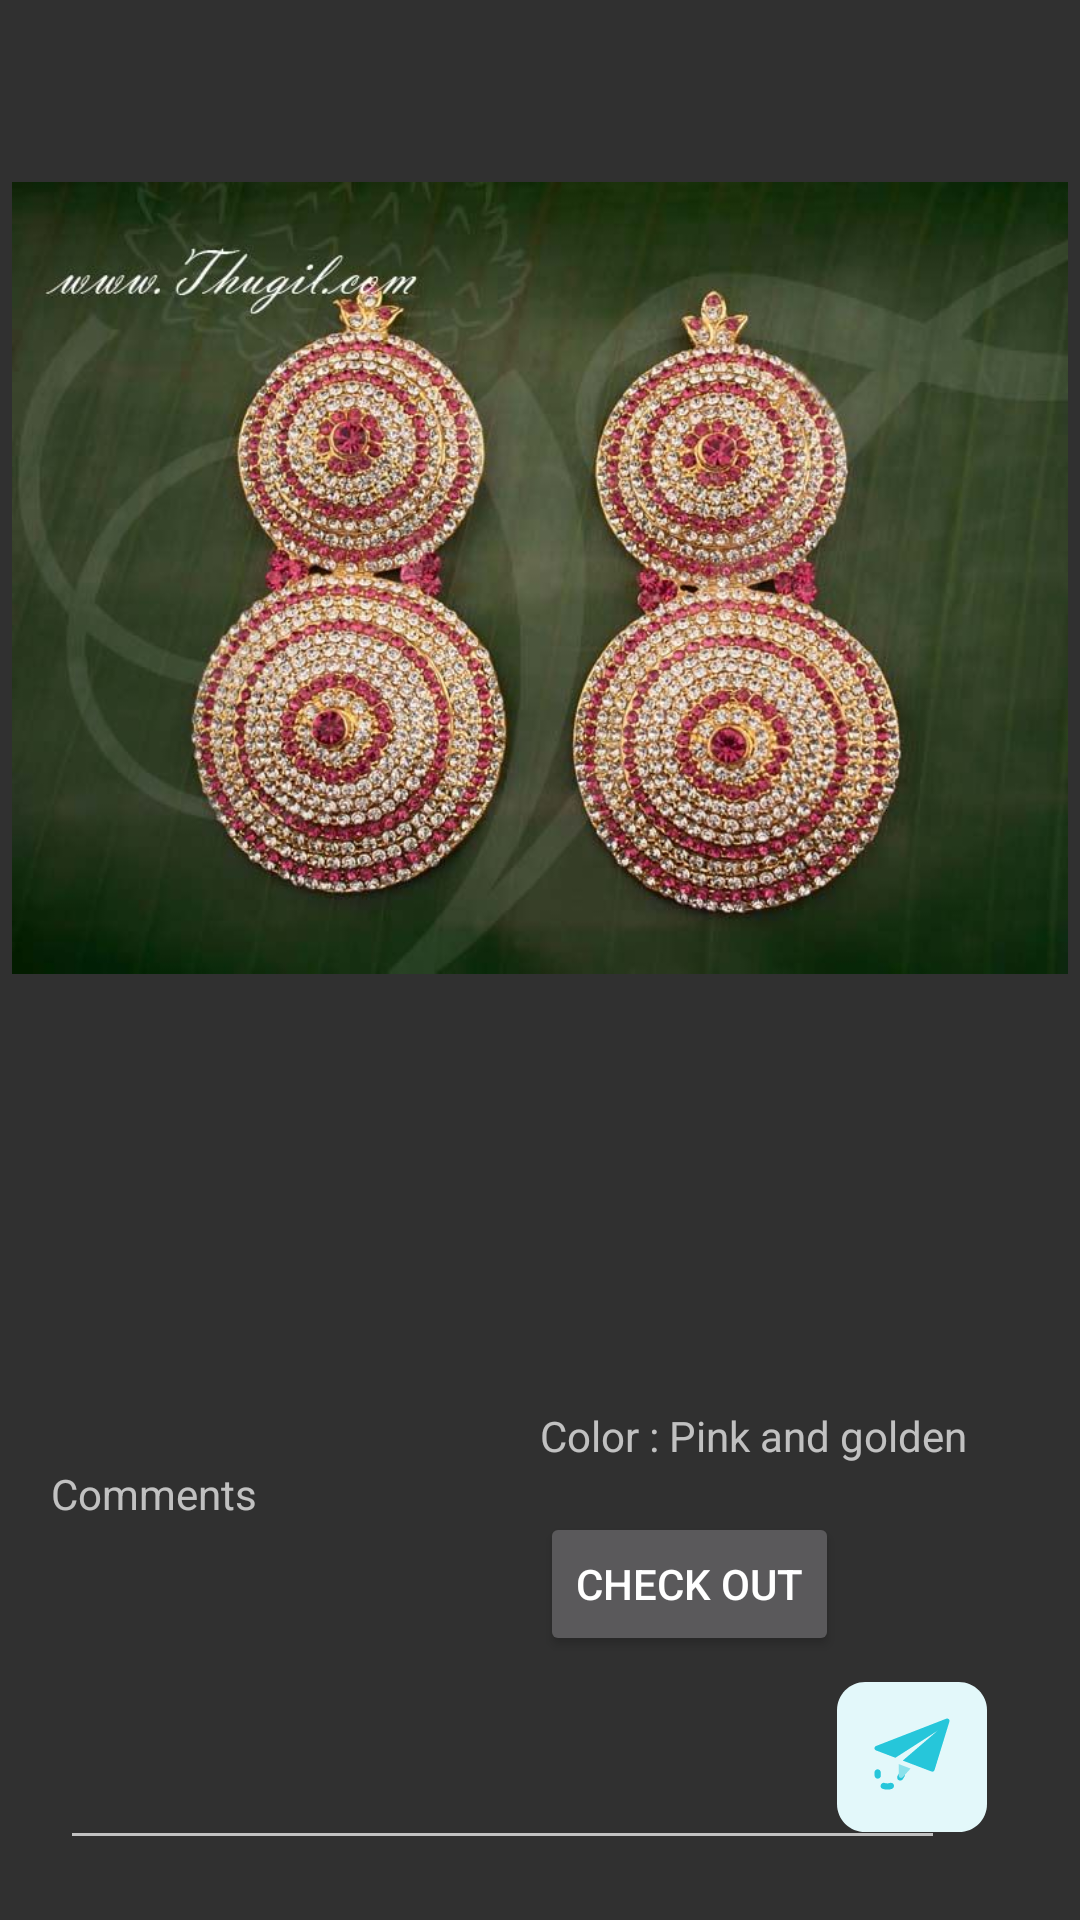

Where to tap for icons on this 1080 × 1920 app screen, as (x,y):
sendbtn: (912,1757)
